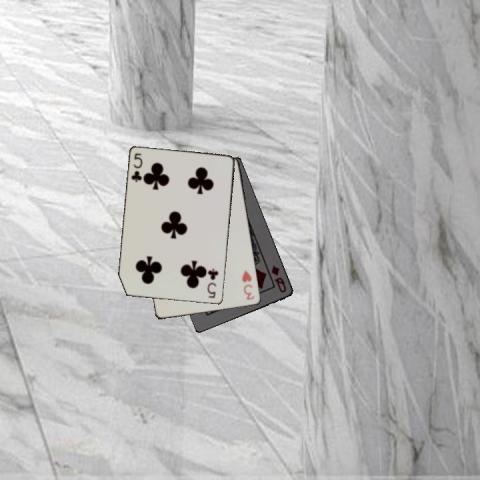3h: (239, 268, 256, 301)
5c: (128, 151, 144, 184), (205, 266, 220, 299)
Qd: (269, 262, 288, 294)
